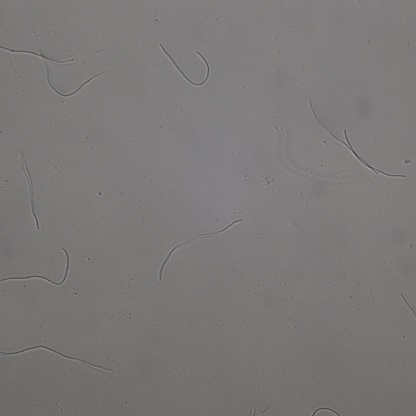Sensitive: (308, 101, 405, 178), (158, 219, 240, 279), (1, 345, 112, 373), (43, 52, 107, 97), (1, 248, 70, 286), (160, 44, 210, 86), (1, 42, 74, 66), (21, 152, 39, 228), (310, 406, 340, 416), (401, 295, 416, 315)
